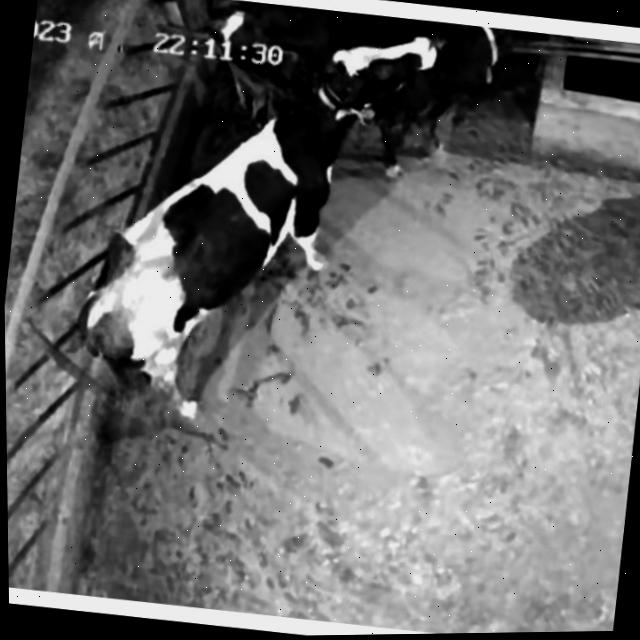propping: (250, 6, 452, 177)
